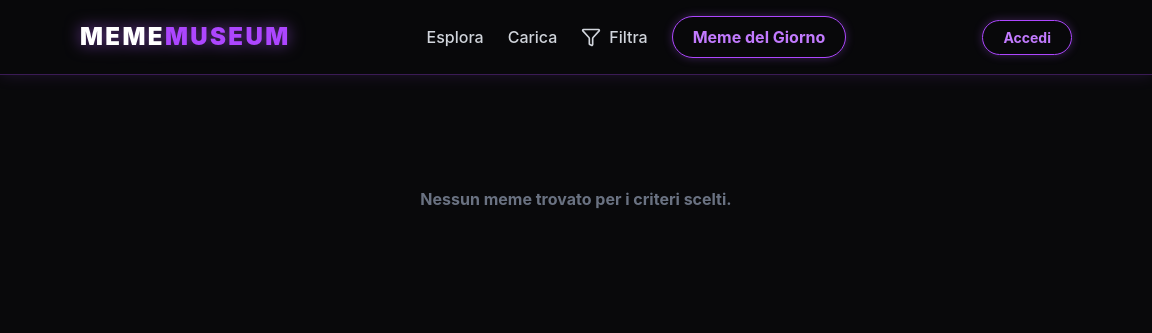
Scenario: MemeMuseum - Test End-to-End › 3. Dovrebbe aprire il menu a tendina dei Filtri
Click the button "Filtra".
click(614, 37)  # box [581,25,647,49]
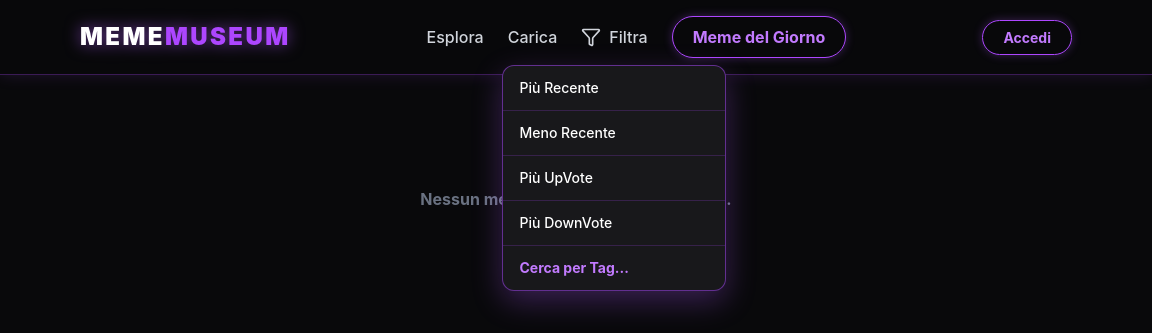
expect the button "Più Recente" is shown: met, box [504,66,726,111]
expect the button "Più UpVote" is shown: met, box [504,156,726,201]
